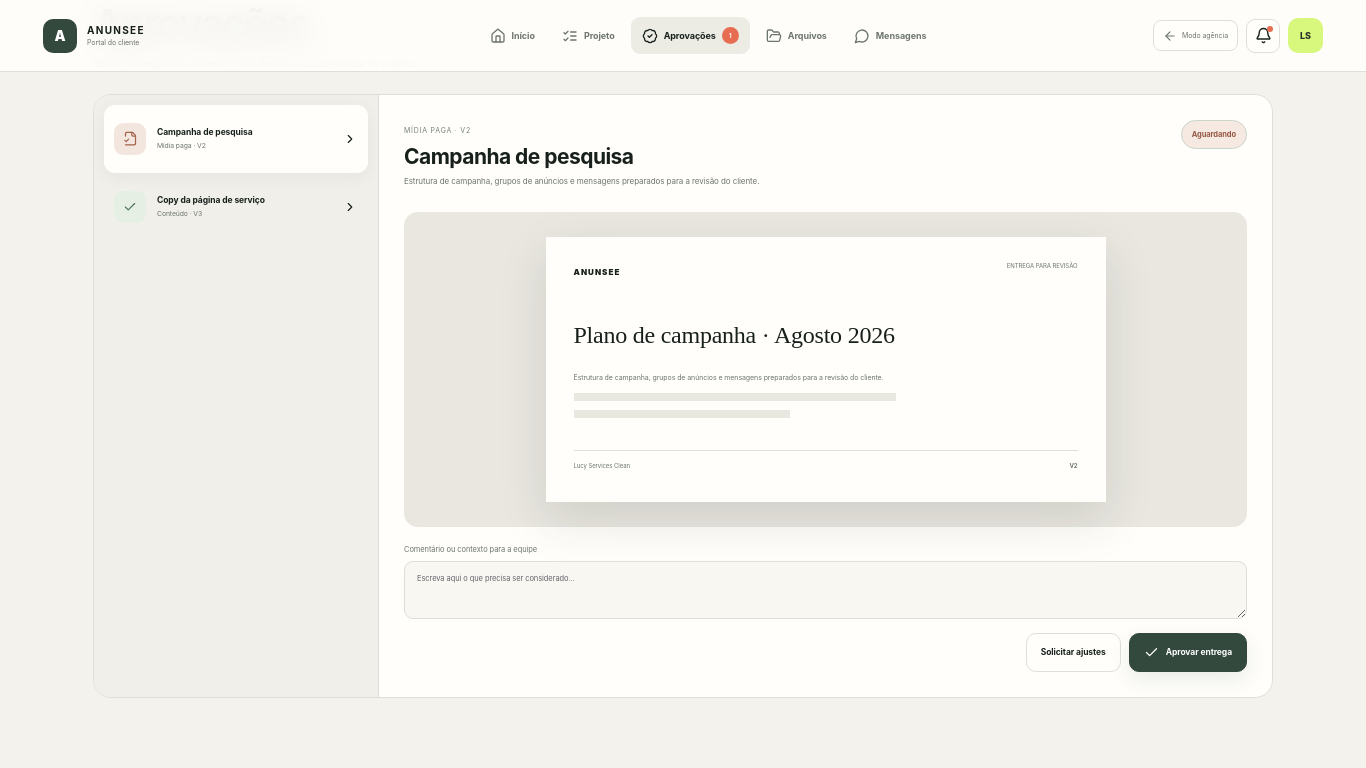
Scenario: core interactions › records a client approval in the portal demo
The width and height of the screenshot is (1366, 768).
(page scrolled)
Click the button "Aprovar entrega" at (1188, 652), box [1129,633,1247,672]
(page scrolled)
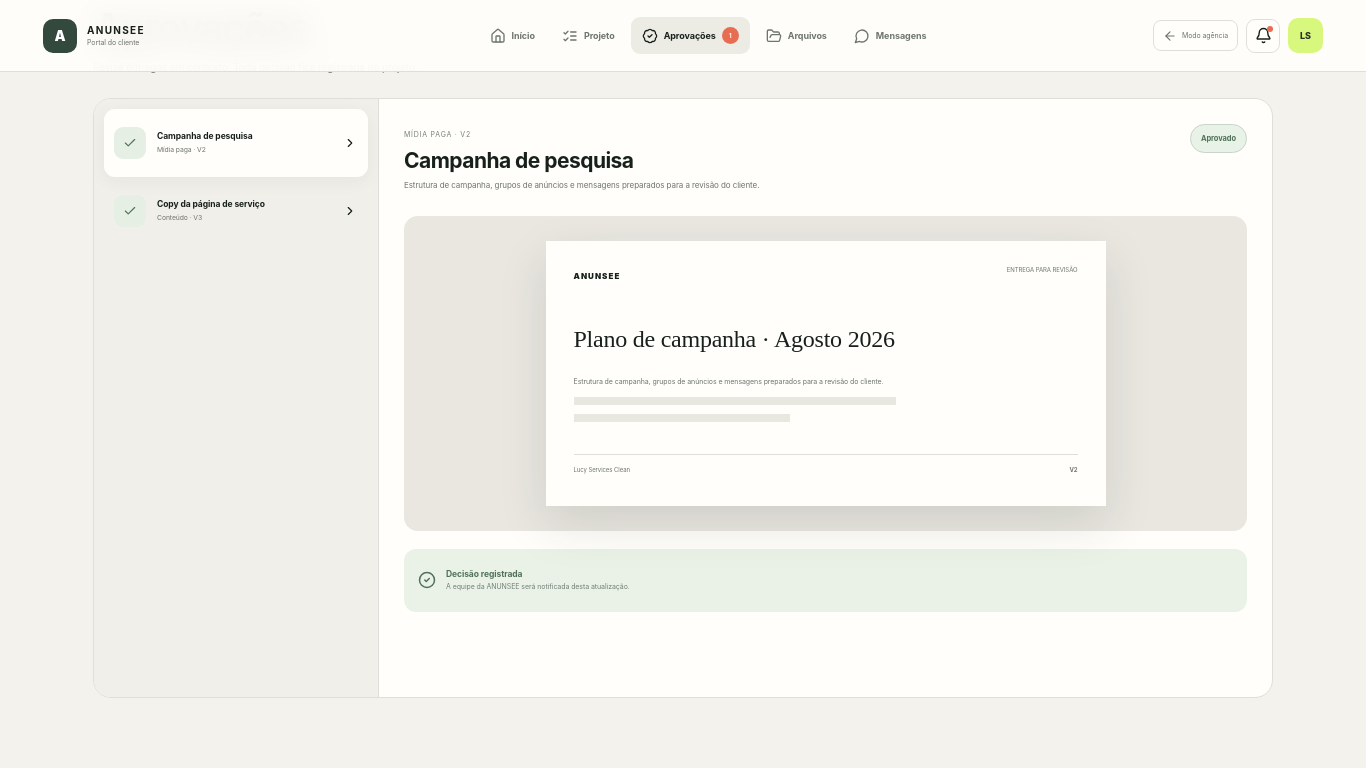
Now the text "Decisão registrada" is shown, box [446,569,522,579]
